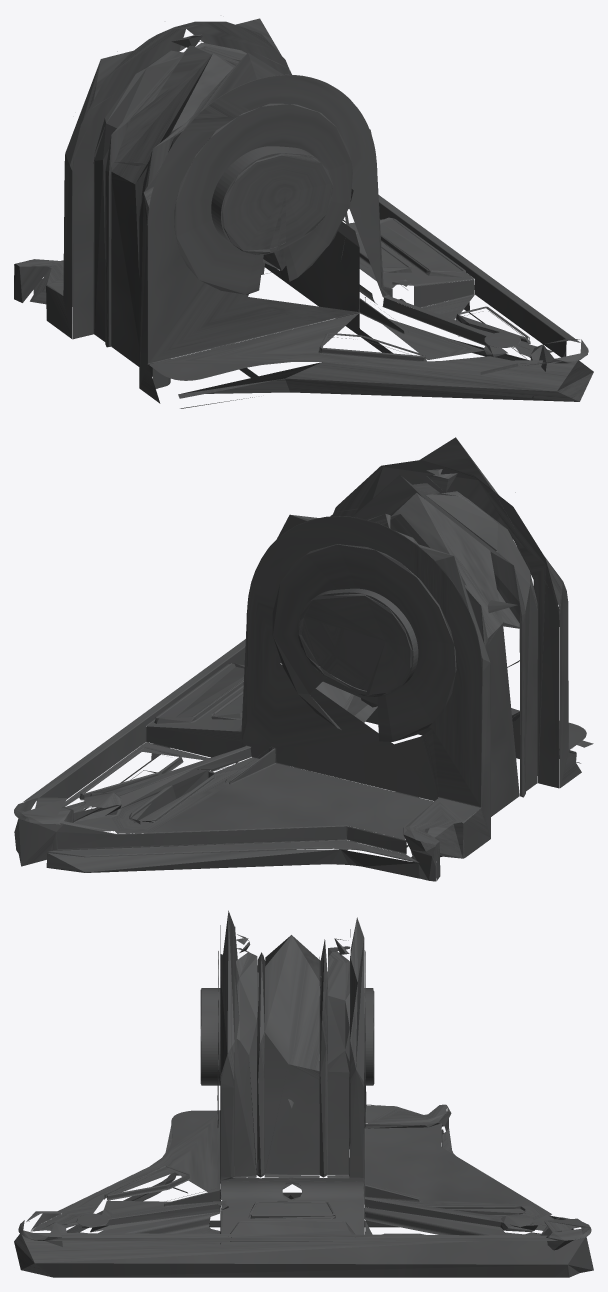
Rendered from engineComponent_engine_mount_c01.glb.
3 views of the same model, one above another, from view 1: azimuth 30°, elevation 25°; view 2: azimuth 150°, elevation 25°; view 3: azimuth 270°, elevation 25° (orthographic). The views are drawn at different scales.
Parts seen in each view (by area): view 1: geometry_0; view 2: geometry_0; view 3: geometry_0.
Boxes of the visible parts, x1,y1,x2,y2 form: geometry_0: (14, 18, 593, 408); geometry_0: (14, 437, 593, 881); geometry_0: (14, 910, 593, 1277).
Size of the model in its own units: 0.2469 by 0.2174 by 0.42.
Materials: 1 (1 with a texture image).
